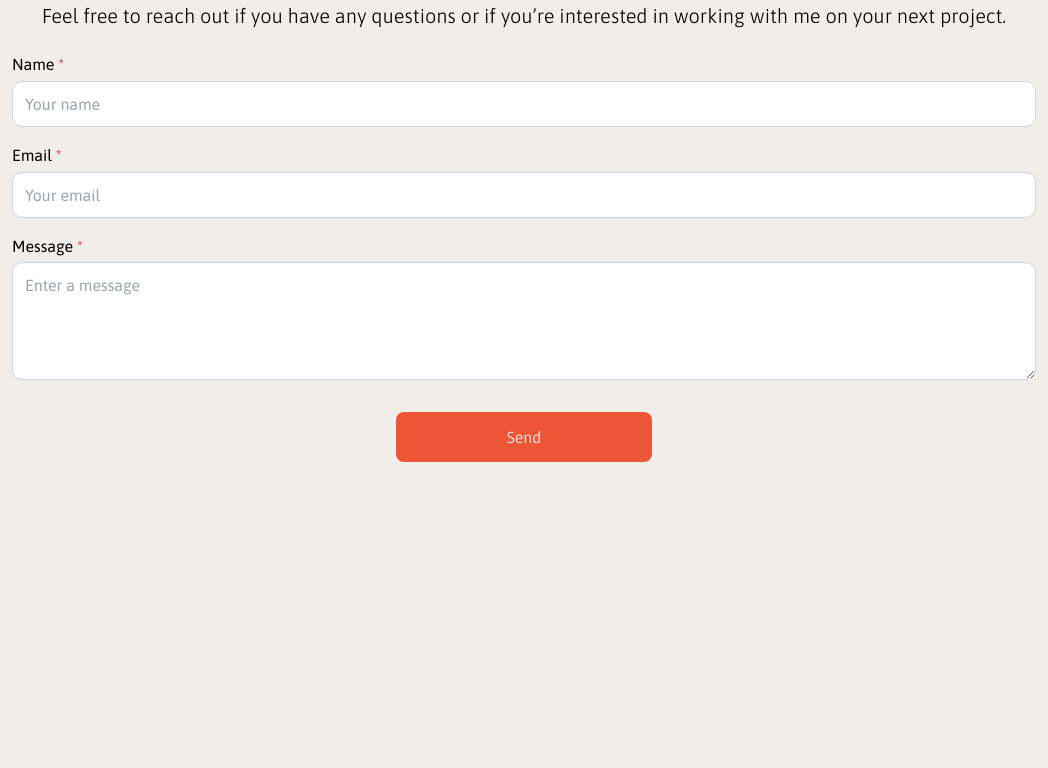
ContactForm › should not display errors when values are valid
Step 1. Submit the form from the button, box [396, 412, 652, 462]
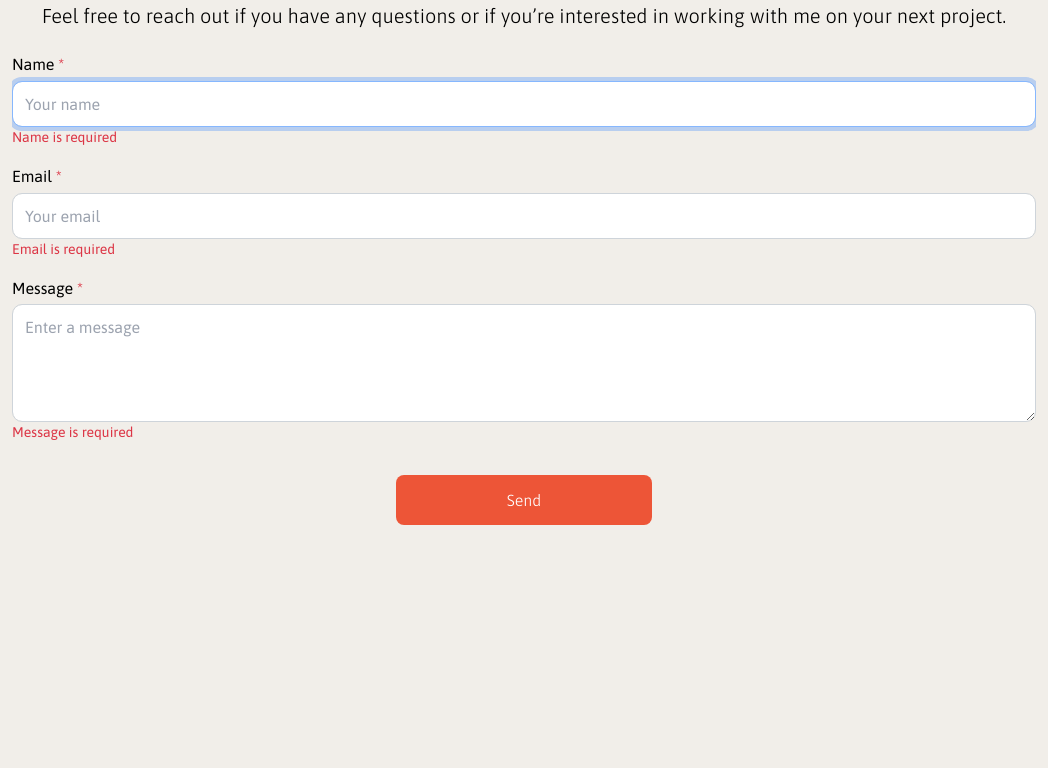
expect the text "Name is required" is shown: met, box [12, 129, 117, 145]
expect the text "Email is required" is shown: met, box [12, 241, 115, 257]
expect the text "Message is required" is shown: met, box [12, 424, 134, 440]
Step 2. Type "Mario" into the field labelled "Name *" → [524, 104], box [12, 81, 1036, 127]
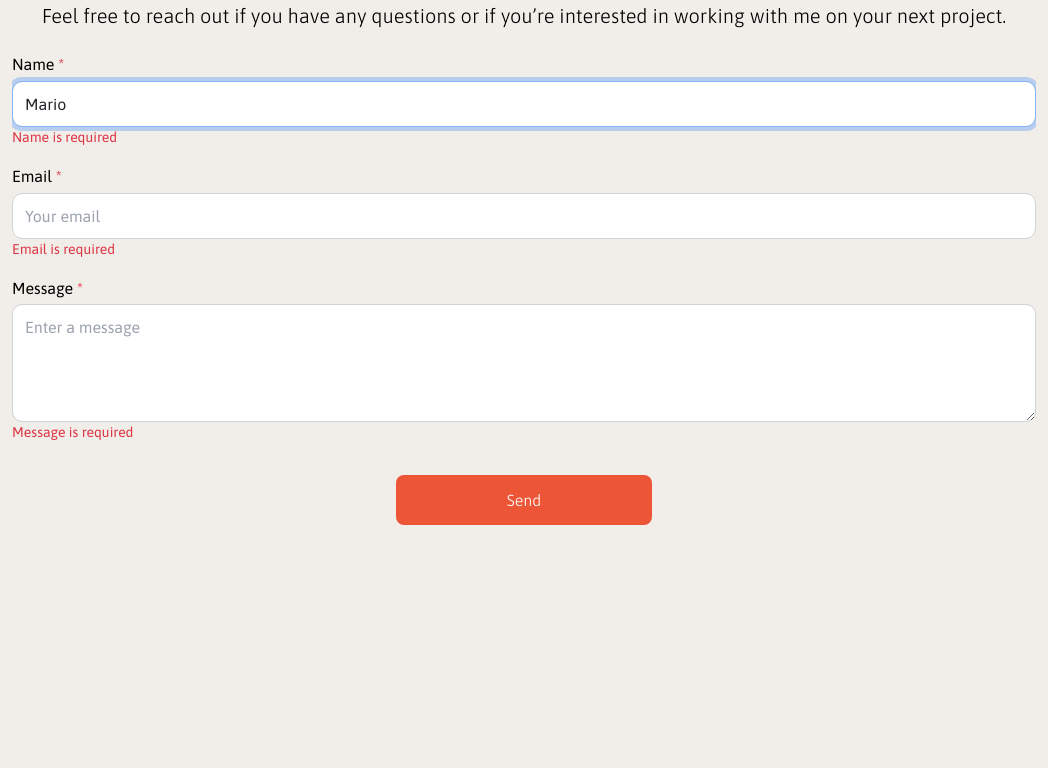
Step 3. Type "mario@nintendo.com" into the field labelled "Email *" → [524, 216], box [12, 193, 1036, 239]
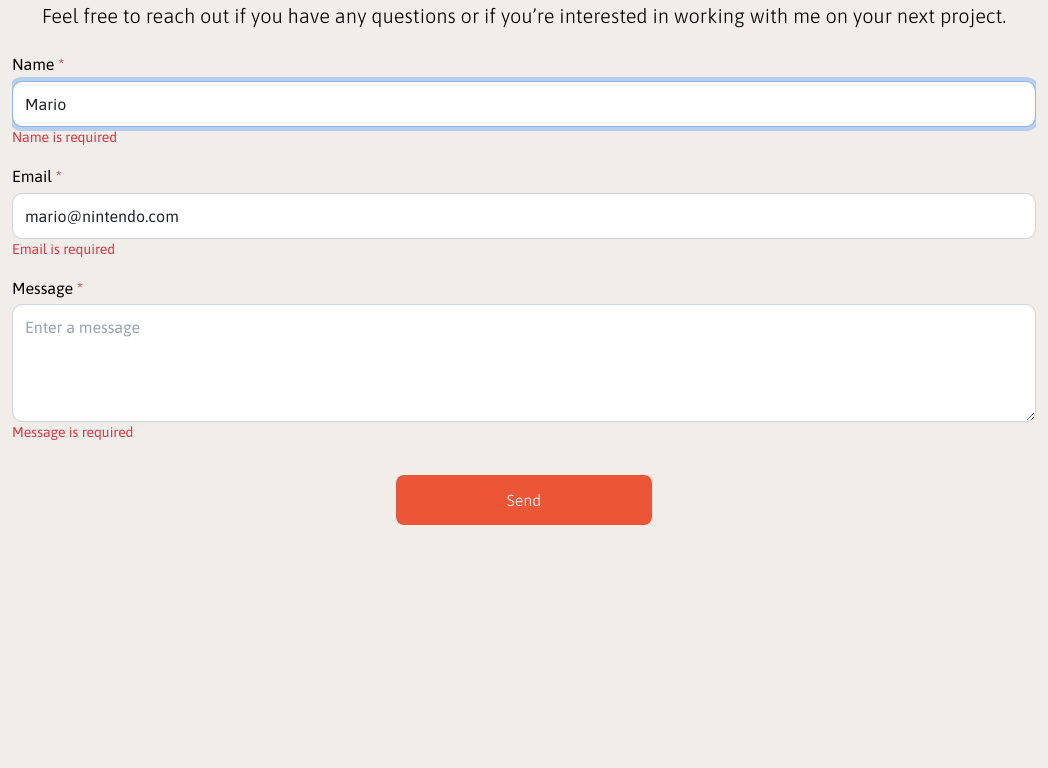
Step 4. Type "Mario is testing the ContactForm component!" into the text box labelled "Message *" → [524, 363], box [12, 304, 1036, 422]
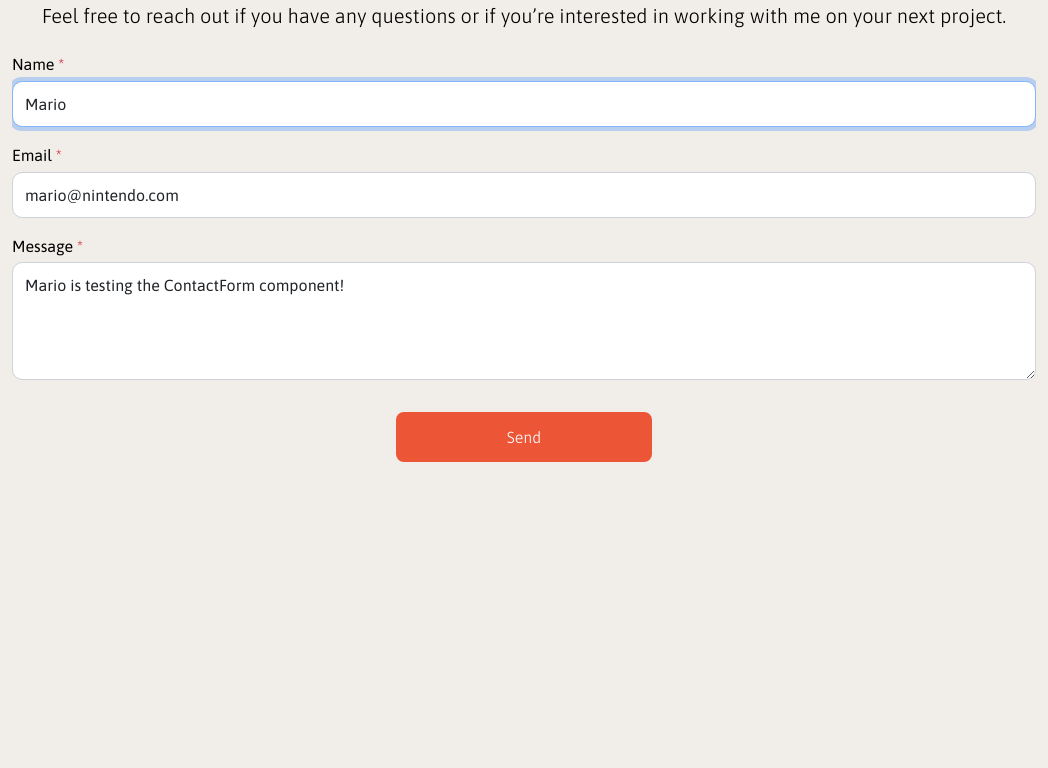
expect the text "Name is required" is gone: met
expect the text "Email is required" is gone: met
expect the text "Message is required" is gone: met
